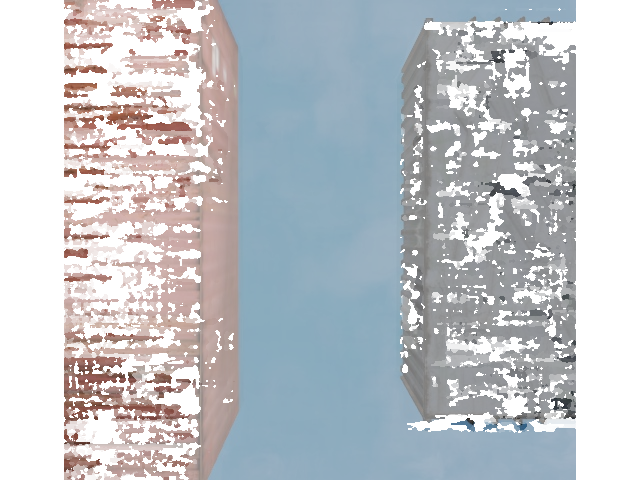container1: (398, 13, 605, 428)
container4: (0, 0, 244, 469)
